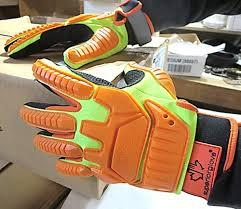gloves: (20, 58, 236, 204), (4, 1, 154, 69)
